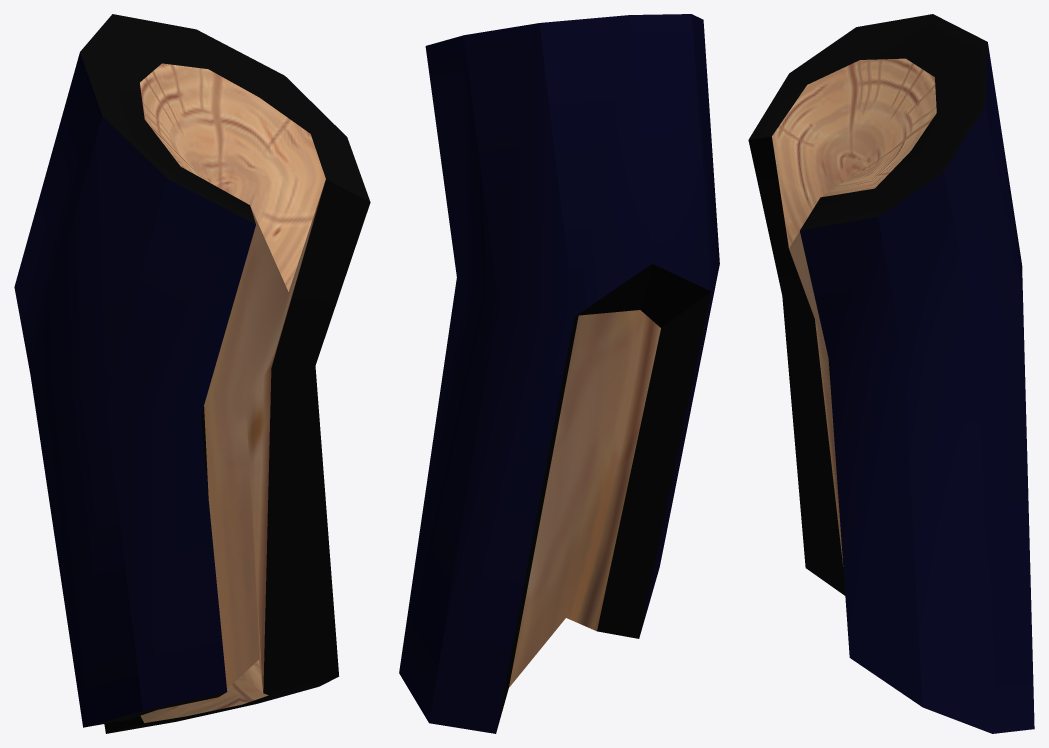
Rendered from p_mesh_hvs_pine_branch_part_01.fbx.
The picture shows the model from 3 angles, left to right: view 1: azimuth 30°, elevation 25°; view 2: azimuth 150°, elevation 25°; view 3: azimuth 270°, elevation 25°; orthographic projection. The views are drawn at different scales.
Visible parts, largest first — view 1: chunk10; view 2: chunk10; view 3: chunk10.
Boxes of the visible parts, x1,y1,x2,y2 form: chunk10: (14, 14, 370, 733); chunk10: (399, 14, 719, 733); chunk10: (748, 14, 1034, 733).
Size of the model in its own units: 1.52 by 3.58 by 1.43.
